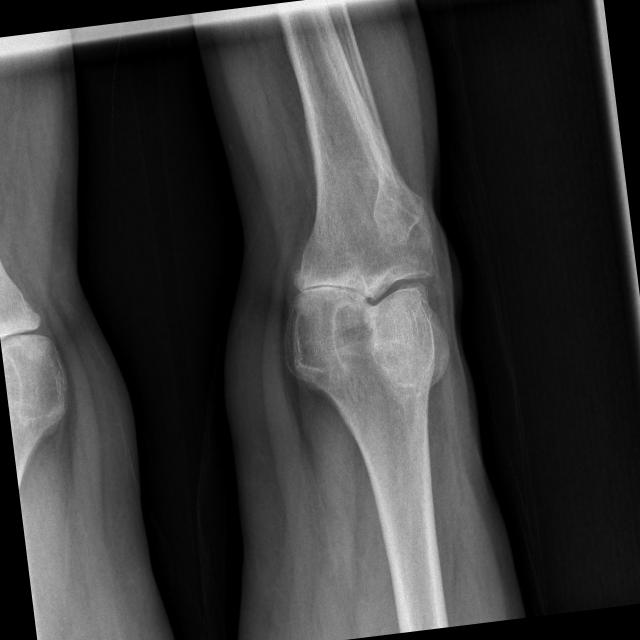Knee: (273, 206, 456, 391), (0, 280, 74, 425)
